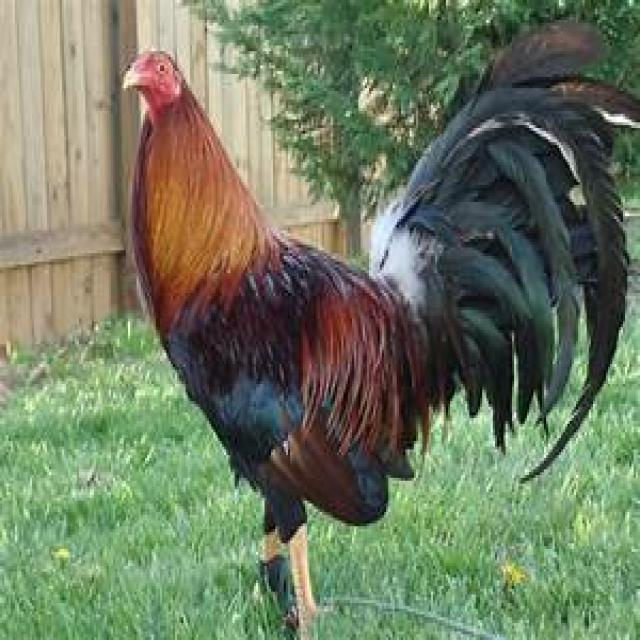hen: (122, 20, 640, 640)
